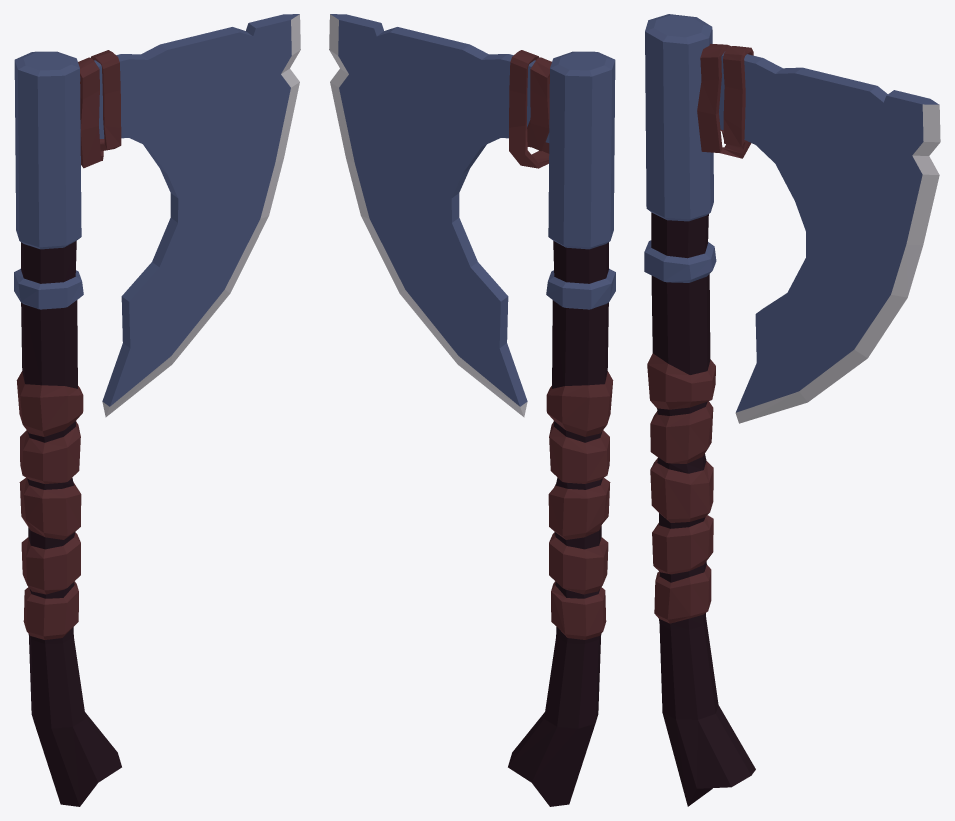
The model's file is axe_small.glb.
3 views of the same model, side by side, from view 1: azimuth 30°, elevation 25°; view 2: azimuth 150°, elevation 25°; view 3: azimuth 330°, elevation 25° (orthographic). The views are drawn at different scales.
Visible parts, largest first — view 1: Axe_small; view 2: Axe_small; view 3: Axe_small.
Boxes of the visible parts, bbox=[...] form: Axe_small: bbox=[14, 14, 300, 806]; Axe_small: bbox=[329, 14, 615, 806]; Axe_small: bbox=[644, 14, 940, 806].
Bounding box in the file's own units: 62.36 × 157 × 13.22.
